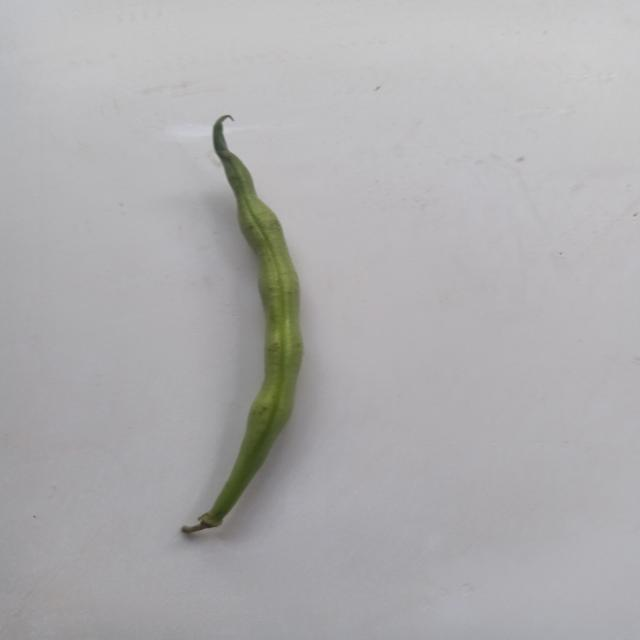Beans: (158, 101, 322, 567)
